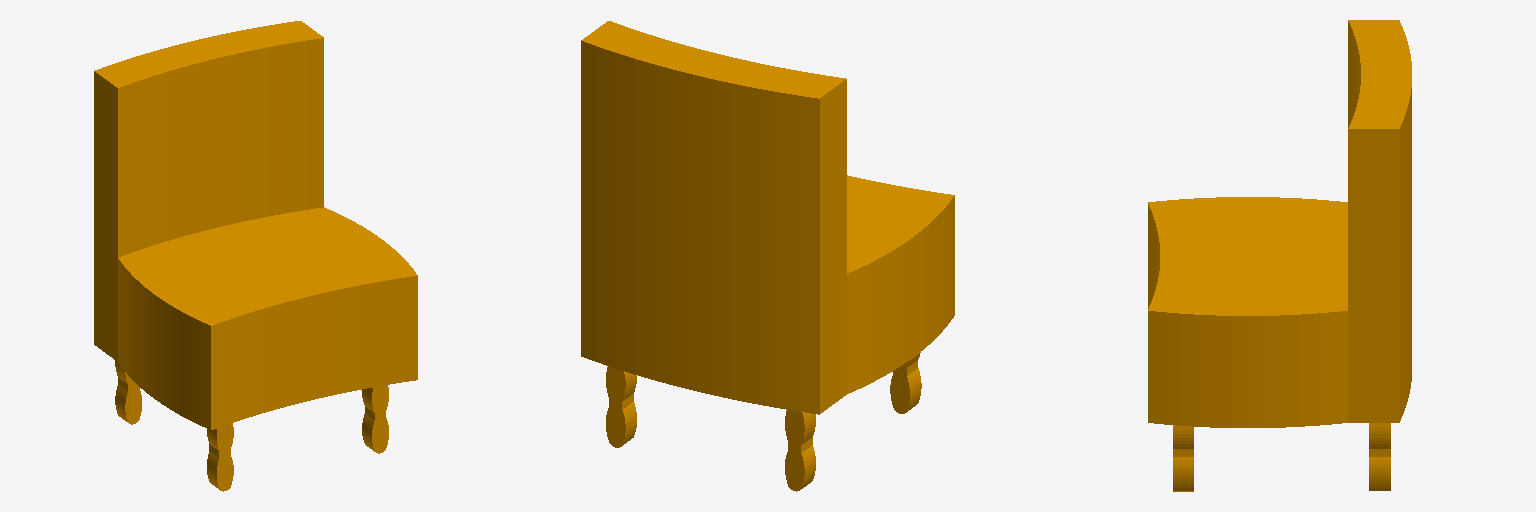
URDF robot description (1b6c268811e1724ead75d368738e0b47):
<?xml version="1.0" ?>
<robot name="1b6c268811e1724ead75d368738e0b47" version="1.0">
  <link name="base_link">
    <inertial>
      <origin rpy="0.0 0.0 0.0" xyz="0.0 0.0 0.0"/>
      <mass value="0.0"/>
      <inertia ixx="0.001" ixy="0.0" ixz="0.0" iyy="0.001" iyz="0.0" izz="0.001"/>
    </inertial>
    <visual name="1b6c268811e1724ead75d368738e0b47___2">
      <origin rpy="0.0 0.0 0.0" xyz="0.0 -0.0 0.0"/>
      <geometry>
        <mesh filename="shape/visual/1b6c268811e1724ead75d368738e0b47_m2_vm.obj"/>
      </geometry>
    </visual>
    <visual name="1b6c268811e1724ead75d368738e0b47___1">
      <origin rpy="0.0 0.0 0.0" xyz="0.0 -0.0 0.0"/>
      <geometry>
        <mesh filename="shape/visual/1b6c268811e1724ead75d368738e0b47_m1_vm.obj"/>
      </geometry>
    </visual>
    <collision>
      <origin rpy="0.0 0.0 0.0" xyz="0.0 -0.0 0.0"/>
      <geometry>
        <mesh filename="shape/collision/1b6c268811e1724ead75d368738e0b47_cm.obj"/>
      </geometry>
    </collision>
  </link>
</robot>

--- Facts derived from the render (not from the file) ---
Views: 3 orthographic renders of the robot side by side, from view 1: azimuth 30°, elevation 25°; view 2: azimuth 150°, elevation 25°; view 3: azimuth 270°, elevation 25°.
Robot: 1b6c268811e1724ead75d368738e0b47 — 1 links, 0 joints (none); root link base_link; default pose: all joints at 0.
Visible links, largest first — view 1: base_link; view 2: base_link; view 3: base_link.
Boxes of the visible links, <box> form: base_link: <box>94,21,417,491</box>; base_link: <box>581,21,954,491</box>; base_link: <box>1148,20,1411,491</box>.
Size in the robot's own frame: 0.3959 by 0.3719 by 0.5818 metres.
2 mesh visuals loaded from 2 distinct referenced files (2 OBJ).